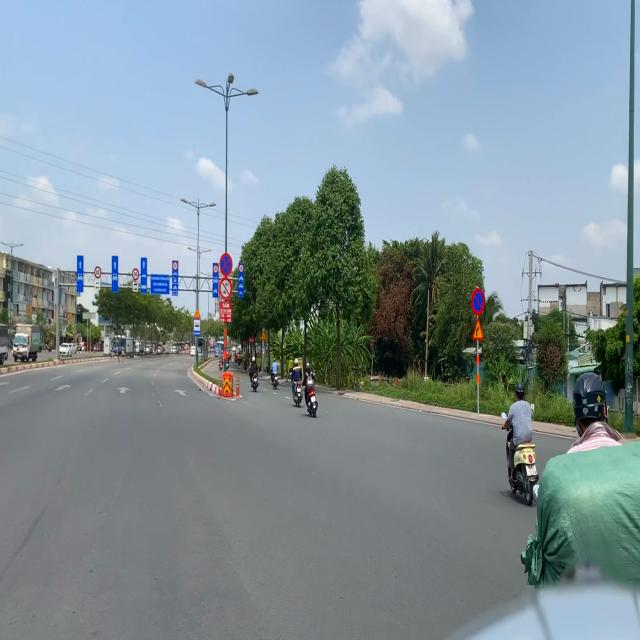Cam do: (471, 288, 485, 316)
Cam dung va do: (220, 253, 232, 277)
Hieu lenh: (193, 319, 201, 336)
Nguy hiem: (472, 317, 484, 340), (194, 306, 201, 318)
Toc do toi da: (94, 266, 102, 279), (132, 268, 139, 280), (173, 261, 178, 271), (213, 265, 218, 273), (239, 264, 244, 272)
